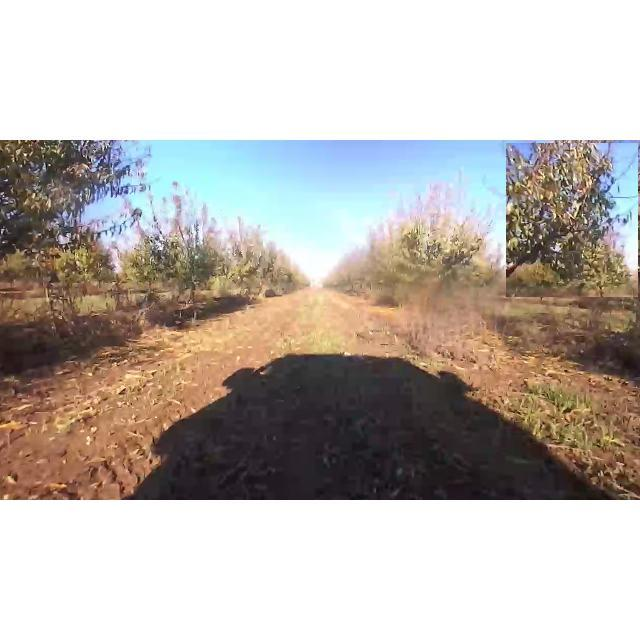direk: (506, 143, 638, 297), (3, 144, 149, 256), (382, 198, 491, 318), (142, 210, 222, 320), (222, 211, 270, 301)
